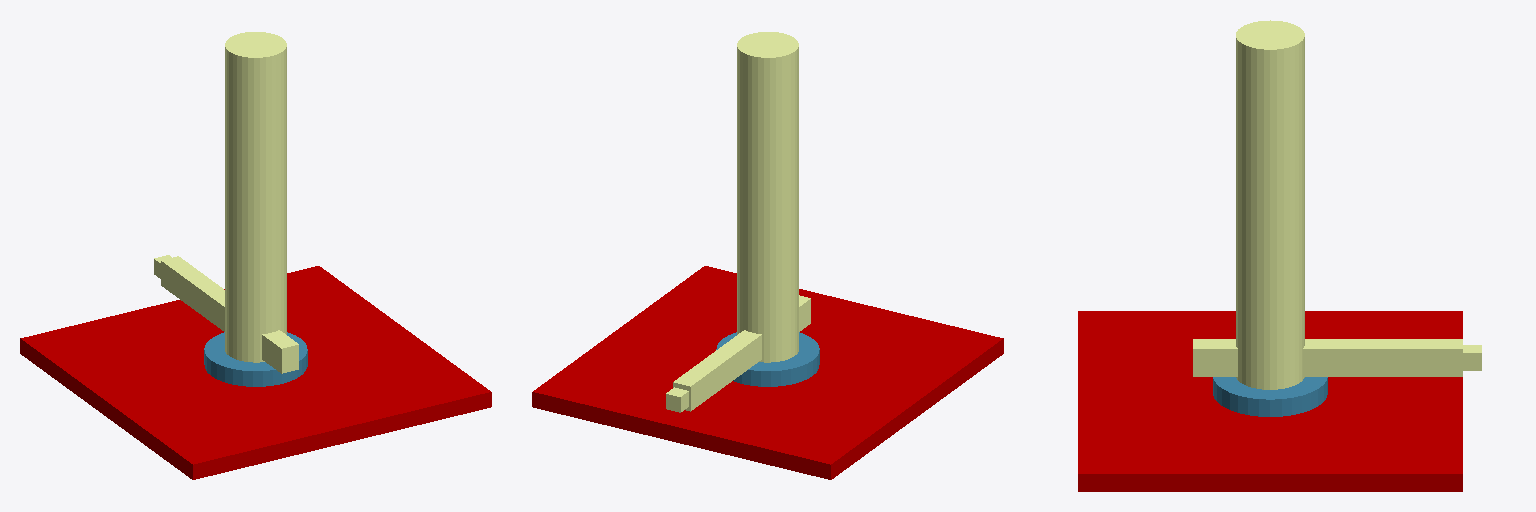
robot.urdf — Cylindrical:
<?xml version="1.0"?>
<robot name="Cylindrical">

 <link name="base_link">

    <visual>
        <origin xyz="0 0 0 " rpy="0 0 0" />
        <geometry>
          <box size="1.0 1.0 0.05" />
        </geometry>
        <material name="red">
        <color rgba="0.8 0.0 0.0 1.0"/>
        </material>
    </visual>

 <visual>
        <origin xyz="0 0 0.05 " rpy="0 0 0" />
        <geometry>
    <cylinder length="0.05" radius="0.15"/>
        </geometry>
  <material name="SickBlue">
    <color rgba="0.3058 0.5921 0.7294 1.0"/>
  </material>
    </visual>


  </link>

<!--<box size="0.05 0.05 1" /> -->

<link name="link_1">

   <visual>
        <origin xyz="0 0 0.5 " rpy="0 0 0" />
        <geometry>
        <cylinder length="1.0" radius="0.09"/> 
        </geometry>
        
  <material name="HandGray">
    <color rgba="0.953 0.996 0.694 1.0"/>
  </material>
  
    </visual>

  </link>

<link name="link_2">

   <visual>
        <origin xyz="0 0.15 0" rpy="0 0 0" />
        <geometry>
          <box size="0.06 0.7 0.08" />
        </geometry>
  <material name="HandGray">
    <color rgba="0.953 0.996 0.694 1.0"/>
  </material>
    </visual>

  </link>

<link name="link_3">

   <visual>
        <origin xyz="0 -0.2 0" rpy="0 0 0" />
        <geometry>
          <box size="0.05 0.4 0.05" />
        </geometry>
  <material name="HandGray">
    <color rgba="0.953 0.996 0.694 1.0"/>
  </material>
    </visual>

  </link>

  <link name="tool0"/>


 <joint name="joint_1" type="revolute">
    <axis xyz="0 0 1"/>
    <limit effort="306" lower="-3.14159" upper="3.14159" velocity="0.5"/>
    <origin rpy="0 0 0" xyz="0 0 0.05"/>
    <parent link="base_link"/>
    <child link="link_1"/>
  </joint>

    <joint name="joint_2" type="prismatic">
        <axis xyz="0 0 1"/>
        <parent link="link_1"/>
        <child link="link_2"/>
        <origin xyz="0 0 0.075" rpy="0 0 0"/>
        <limit lower="0" upper="0.82" effort="1000.0" velocity="1.0"/>
    </joint>

    <joint name="joint_3" type="prismatic">
        <axis xyz="0 1 0"/>
        <parent link="link_2"/>
        <child link="link_3"/>
        <origin xyz="0 0.55 0" rpy="0 0 0"/>
        <limit lower="0" upper="0.35" effort="1000.0" velocity="1.0"/>
    </joint>

    <joint name="joint3-tool0" type="fixed">
      <parent link="link_3"/>
      <child link="tool0"/>
      <origin rpy="0 0 0" xyz="0 0 0"/>
    </joint>



</robot>

--- What the picture shows (computed from the rendered views, not written in the file) ---
3 views of the same robot in one strip: view 1: azimuth 30°, elevation 25°; view 2: azimuth 150°, elevation 25°; view 3: azimuth 270°, elevation 25° (orthographic).
Robot: Cylindrical — 5 links, 4 joints (1 revolute, 2 prismatic, 1 fixed); root link base_link; default pose: all joints at 0.
Links seen in each view (by area): view 1: base_link, link_1, link_2; view 2: base_link, link_1, link_2; view 3: base_link, link_1, link_2.
Link boxes in pixels (box(x1,y1,x2,y2)): base_link: box(20, 266, 491, 479); link_1: box(225, 32, 286, 362); link_2: box(161, 256, 298, 373); base_link: box(532, 266, 1003, 479); link_1: box(737, 32, 798, 362); link_2: box(673, 295, 810, 411); base_link: box(1078, 311, 1462, 491); link_1: box(1236, 20, 1304, 389); link_2: box(1193, 339, 1462, 376).
Bounding box of the posed robot: 1 × 1.05 × 1.07 m (x, y, z).
Geometry: primitives only (box / cylinder / sphere), no mesh files.